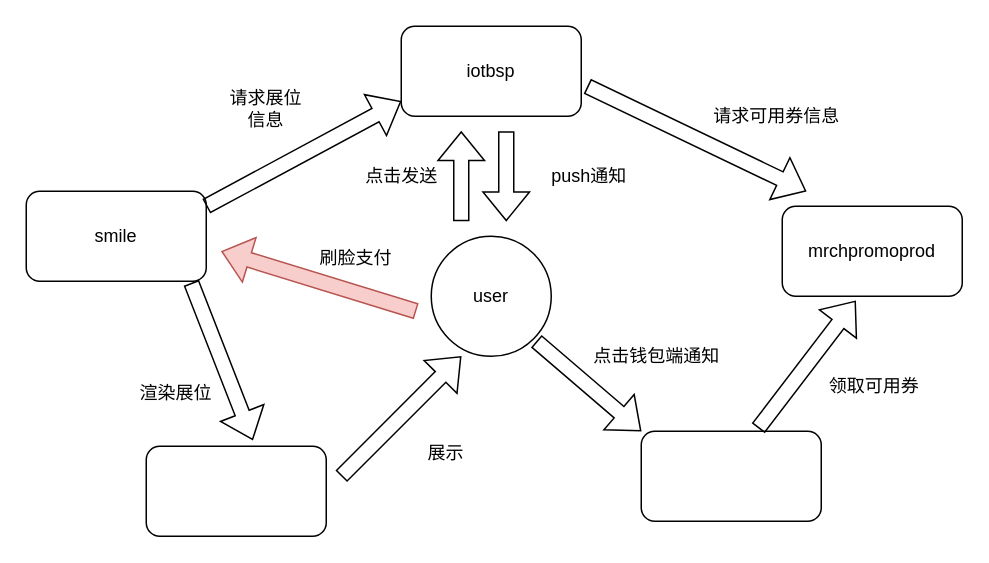
Image size: 989x563. Some labels were removed from this diagram. Each missing label, with the centre of its shape:
"h5" goes at (235,490).
"商家小程序" goes at (730,475).
